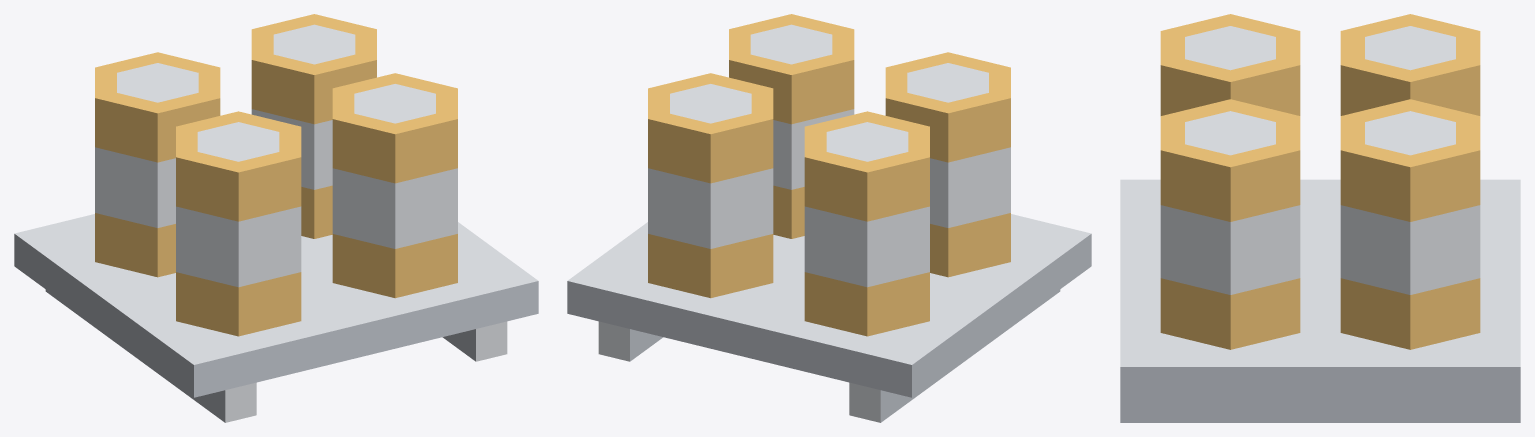
File: barrels.glb
3 renders of one model, left to right at view 1: azimuth 30°, elevation 25°; view 2: azimuth 150°, elevation 25°; view 3: azimuth 270°, elevation 25°, orthographic. The views are drawn at different scales.
Visible parts, largest first — view 1: barrel (×4), barrels; view 2: barrel (×4), barrels; view 3: barrel (×4), barrels.
Boxes of the visible parts, bbox=[...] form: barrel (×4): bbox=[95, 14, 457, 336]; barrels: bbox=[14, 214, 538, 422]; barrel (×4): bbox=[648, 14, 1010, 336]; barrels: bbox=[567, 214, 1091, 422]; barrel (×4): bbox=[1160, 14, 1480, 349]; barrels: bbox=[1120, 179, 1520, 422].
Bounding box in the file's own units: 0.55 × 0.35 × 0.4964.
1 material, 1 textured.
